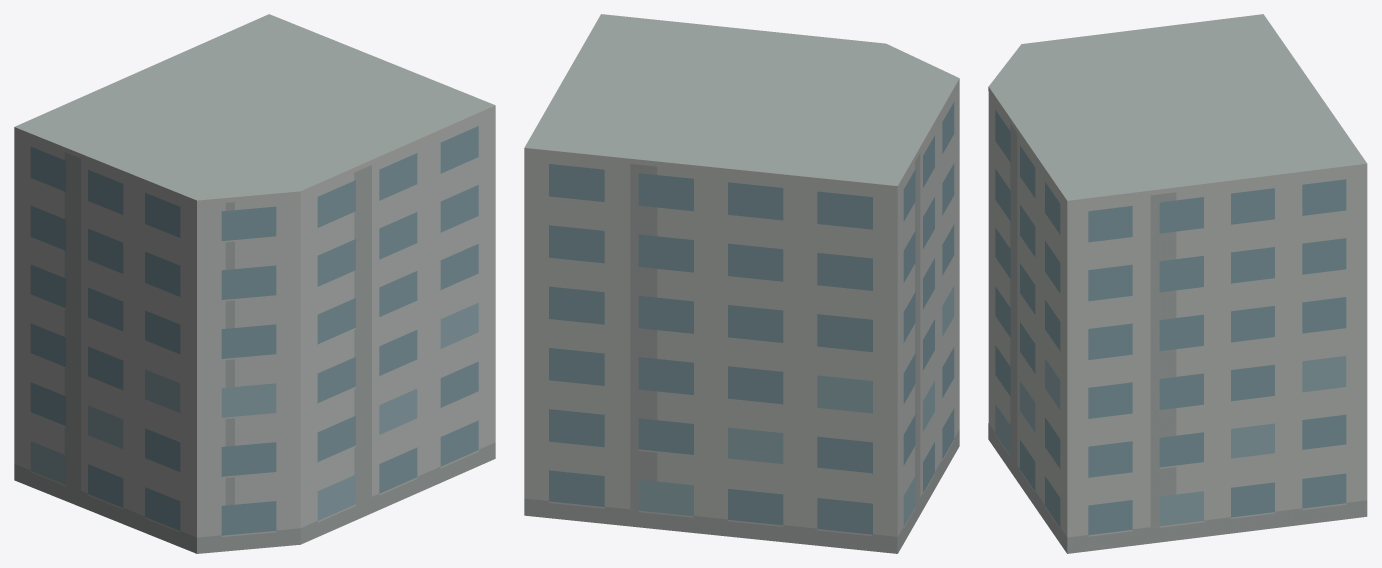
Rendered from survey-upis-32581783.glb.
The picture shows the model from 3 angles, left to right: view 1: azimuth 30°, elevation 25°; view 2: azimuth 150°, elevation 25°; view 3: azimuth 270°, elevation 25°; orthographic projection. The views are drawn at different scales.
Visible parts, largest first — view 1: survey-upis-32581783.tmp; view 2: survey-upis-32581783.tmp; view 3: survey-upis-32581783.tmp.
Boxes of the visible parts, left/top/right/bottom form: survey-upis-32581783.tmp: left=14, top=14, right=495, bottom=553; survey-upis-32581783.tmp: left=524, top=14, right=959, bottom=553; survey-upis-32581783.tmp: left=988, top=14, right=1367, bottom=553.
Size of the model in its own units: 19.87 by 17.5 by 17.03.
